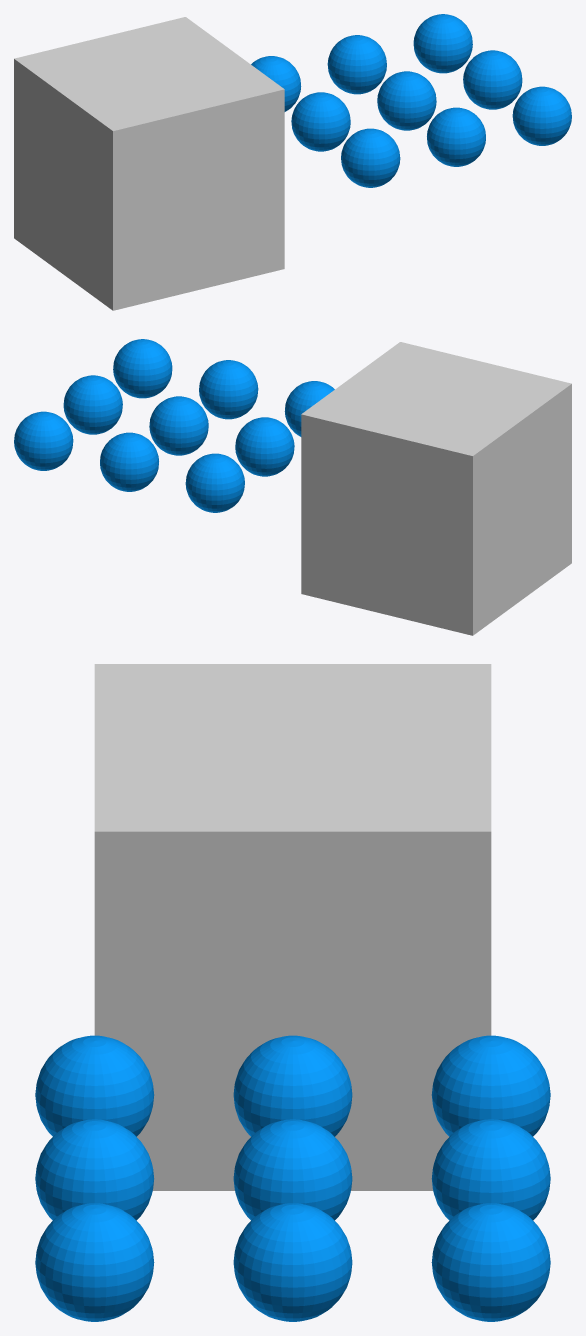
3 renders of one model, top to bottom at view 1: azimuth 30°, elevation 25°; view 2: azimuth 150°, elevation 25°; view 3: azimuth 270°, elevation 25°, orthographic. The views are drawn at different scales.
Parts seen in each view (by area): view 1: Wuerfel, Kugel_3, Kugel_4, Kugel_7, Kugel_0, Kugel_8, Kugel_2, Kugel_5, Kugel_1, Kugel_6; view 2: Wuerfel, Kugel_3, Kugel_4, Kugel_1, Kugel_2, Kugel_6, Kugel_8, Kugel_5, Kugel_7, Kugel_0; view 3: Wuerfel, Kugel_5, Kugel_2, Kugel_8, Kugel_4, Kugel_0, Kugel_6, Kugel_1, Kugel_7, Kugel_3.
Part boxes in pixels (bbox=[...]): Wuerfel: bbox=[14, 17, 284, 310]; Kugel_3: bbox=[291, 92, 350, 151]; Kugel_4: bbox=[377, 71, 436, 130]; Kugel_7: bbox=[327, 35, 386, 94]; Kugel_0: bbox=[341, 128, 400, 187]; Kugel_8: bbox=[413, 14, 472, 73]; Kugel_2: bbox=[512, 86, 571, 145]; Kugel_5: bbox=[463, 50, 522, 109]; Kugel_1: bbox=[427, 107, 485, 166]; Kugel_6: bbox=[251, 56, 301, 111]; Wuerfel: bbox=[301, 342, 571, 635]; Kugel_3: bbox=[235, 417, 294, 476]; Kugel_4: bbox=[149, 396, 208, 455]; Kugel_1: bbox=[199, 360, 258, 419]; Kugel_2: bbox=[113, 339, 172, 398]; Kugel_6: bbox=[185, 453, 244, 512]; Kugel_8: bbox=[14, 411, 73, 470]; Kugel_5: bbox=[63, 375, 122, 434]; Kugel_7: bbox=[100, 432, 158, 491]; Kugel_0: bbox=[284, 381, 334, 436]; Wuerfel: bbox=[94, 664, 491, 1190]; Kugel_5: bbox=[233, 1203, 352, 1321]; Kugel_2: bbox=[35, 1203, 154, 1321]; Kugel_8: bbox=[431, 1203, 550, 1321]; Kugel_4: bbox=[233, 1119, 352, 1220]; Kugel_0: bbox=[35, 1035, 154, 1136]; Kugel_6: bbox=[431, 1035, 550, 1136]; Kugel_1: bbox=[35, 1119, 154, 1220]; Kugel_7: bbox=[431, 1119, 550, 1220]; Kugel_3: bbox=[233, 1035, 352, 1136].
Bounding box in the file's own units: 5.3 × 2 × 2.6.
